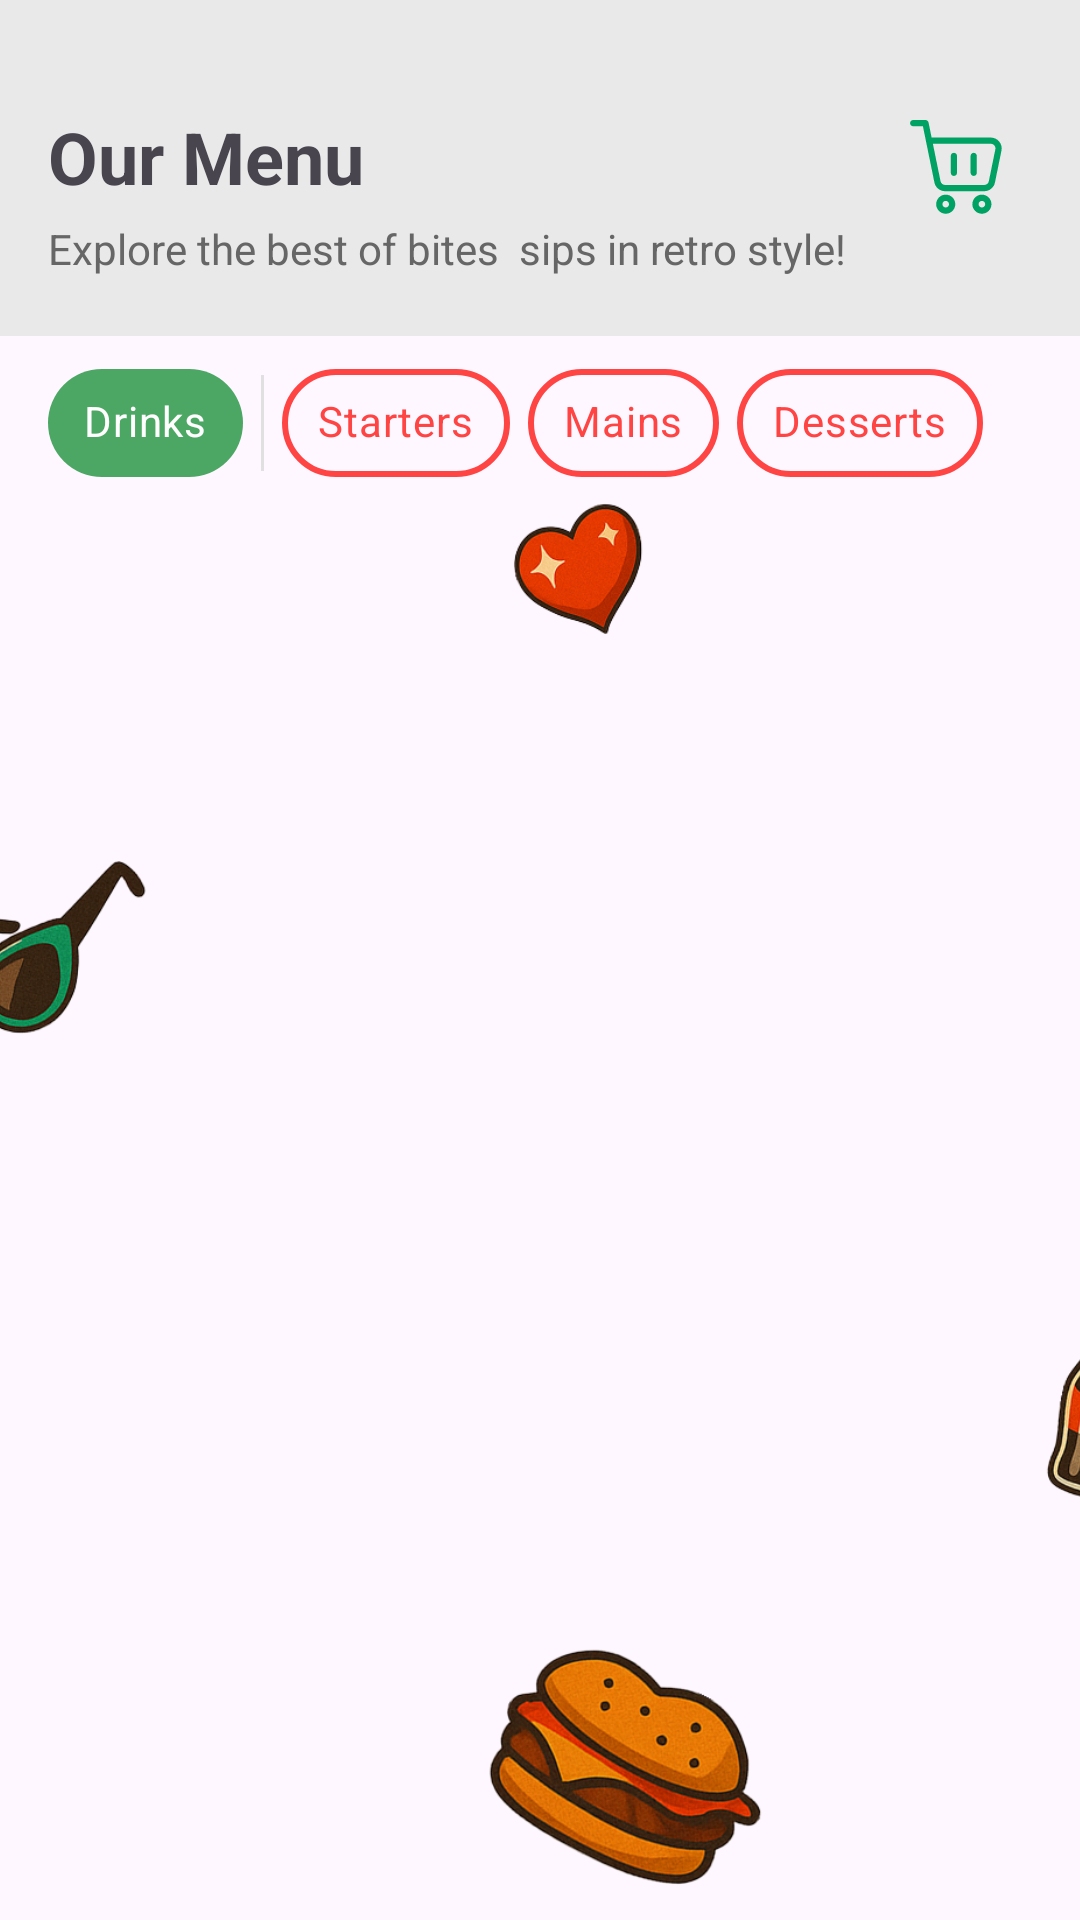

Where icons sit on this 1080*1920 app screen, as (x1, y1, x2, y2):
Cart: (910, 120, 1002, 214)
